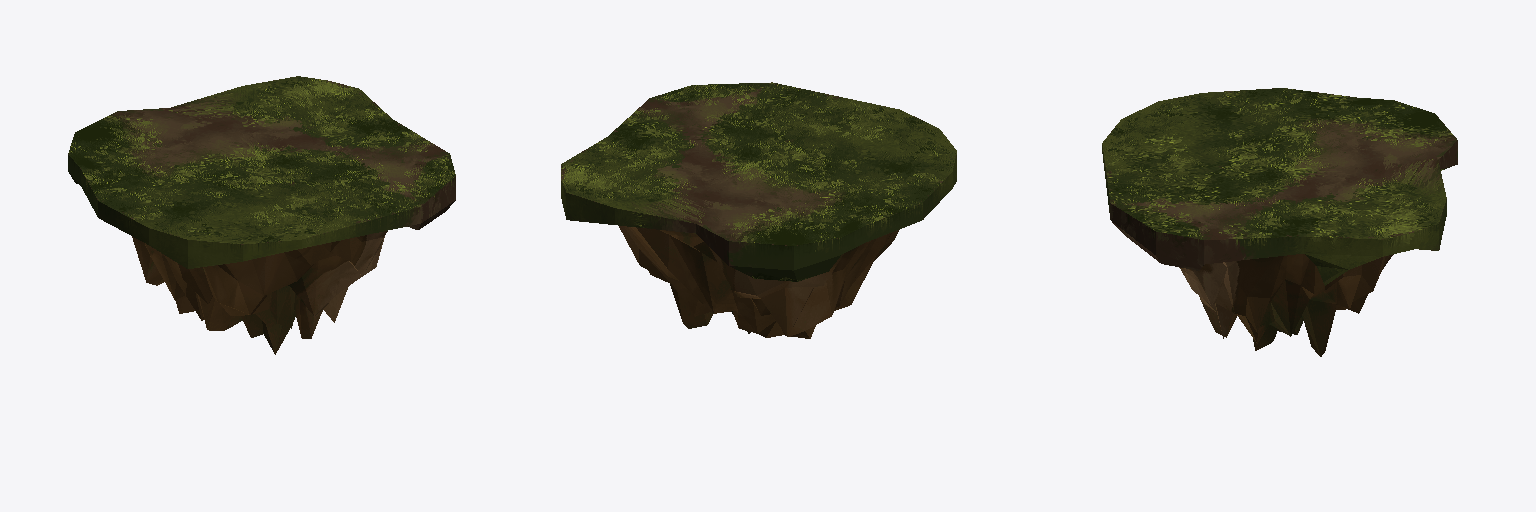
3 views of the same model, side by side, from view 1: azimuth 30°, elevation 25°; view 2: azimuth 150°, elevation 25°; view 3: azimuth 270°, elevation 25° (orthographic).
Parts seen in each view (by area): view 1: Landscape; view 2: Landscape; view 3: Landscape.
Part boxes in pixels (left/top/right/bottom): Landscape: left=68, top=76, right=455, bottom=354; Landscape: left=561, top=82, right=956, bottom=338; Landscape: left=1102, top=88, right=1457, bottom=356.
Size of the model in its own units: 110 by 61.85 by 108.
Materials: 2 (2 with a texture image).